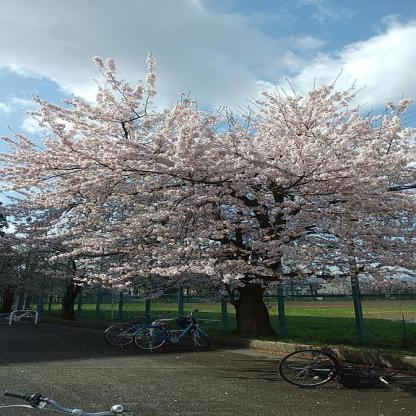Someiyoshino: (6, 57, 412, 293)
